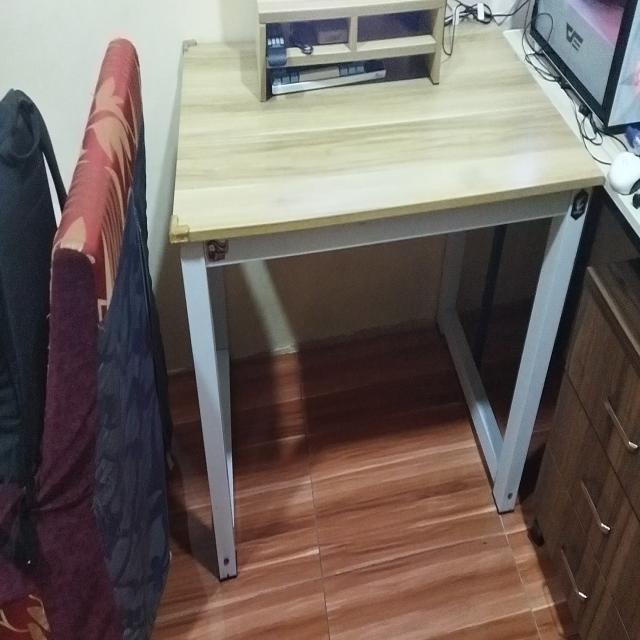table: (168, 11, 602, 567)
